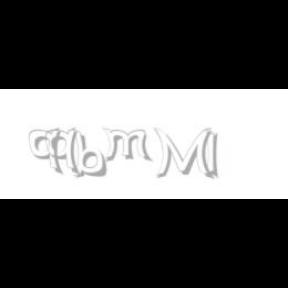I: (207, 128, 220, 180)
M: (153, 128, 212, 180)
b: (72, 128, 110, 178)
m: (101, 128, 153, 162)
q: (29, 128, 65, 176), (45, 128, 81, 176)
